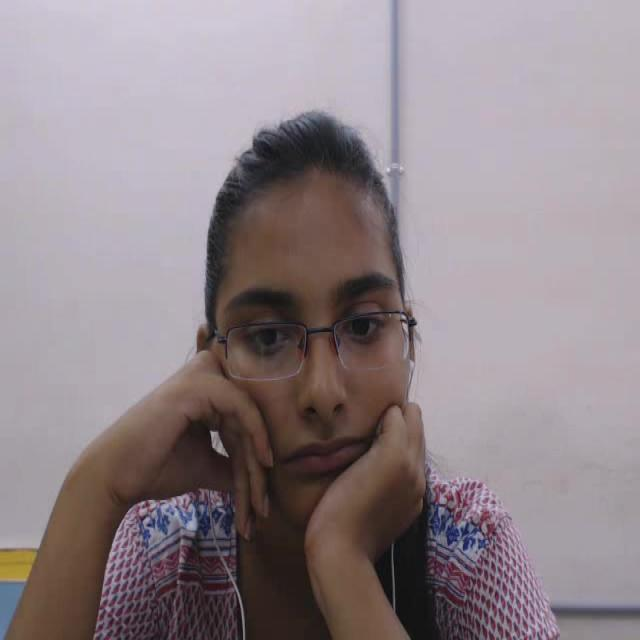Bored: (179, 102, 462, 542)
